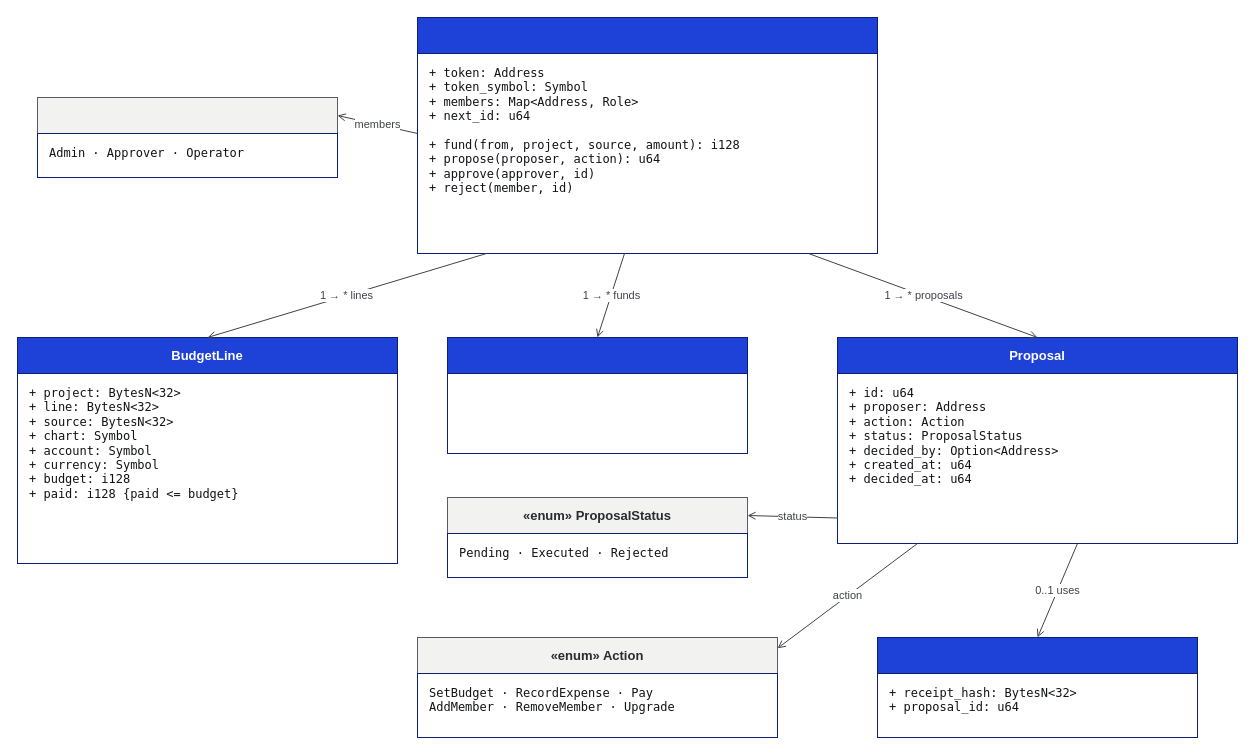
Image size: 1255x755. Some labels were removed from this diagram. The shapes that lost their labels are listed below. From the top down, each one's centre as x and y in pixels, then its label:
At [647,35]: "Treasury".
At [187,115]: "«enum» Role".
At [597,355]: "Funds".
At [597,413]: "+ project: BytesN<32> + source: BytesN<32> + amount: i128".
At [1037,655]: "Receipt".
